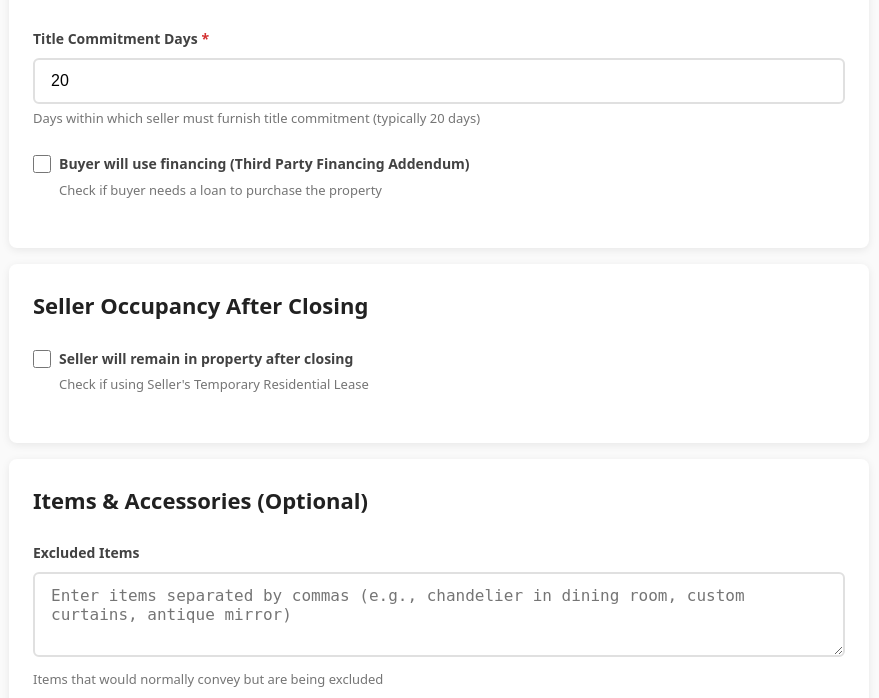
EnterContract › shows seller lease fields when seller stays post-close is checked
The image size is (879, 698).
(page scrolled)
Check: the field with placeholder "30" is not shown
Click the checkbox labelled "Seller will remain in property after closing". click: click(42, 359)
box: x1=33 y1=350 x2=51 y2=368
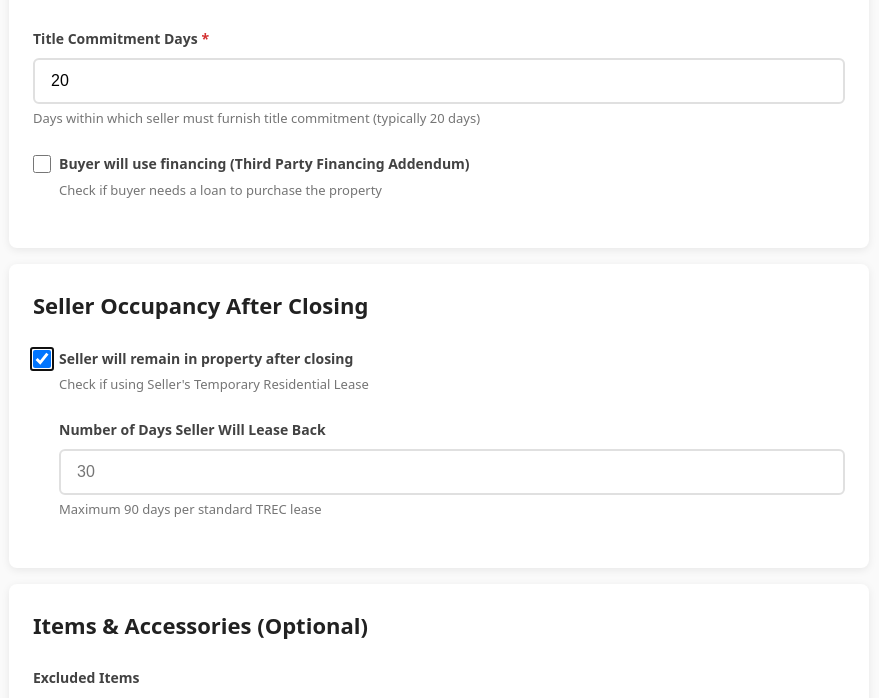
Check: the number field with placeholder "30" is shown, box x1=59 y1=449 x2=845 y2=495
